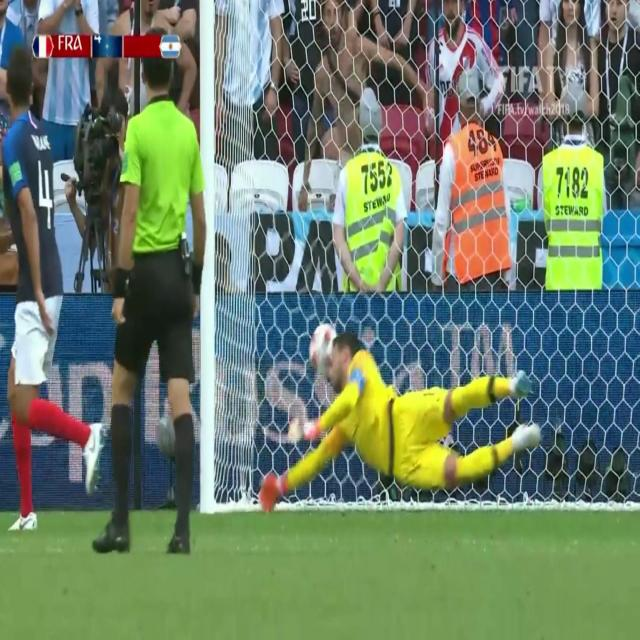ball: (305, 317, 341, 382)
player: (84, 26, 218, 562), (240, 324, 542, 510), (0, 36, 92, 550)
